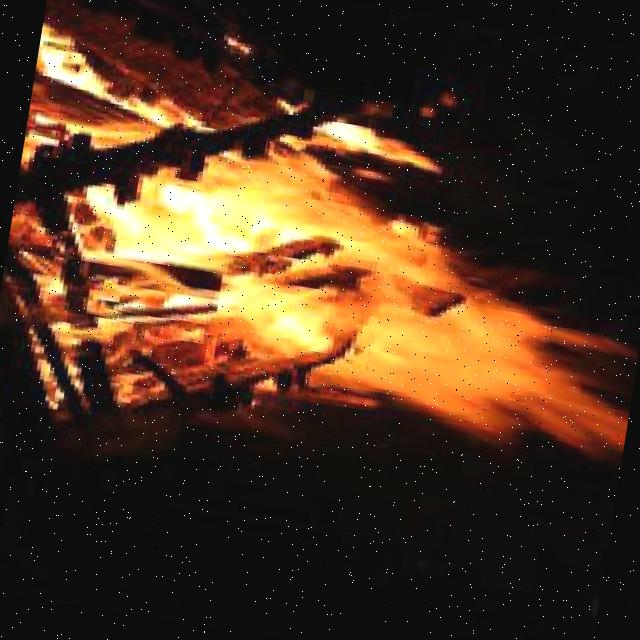fire: (0, 46, 640, 486)
